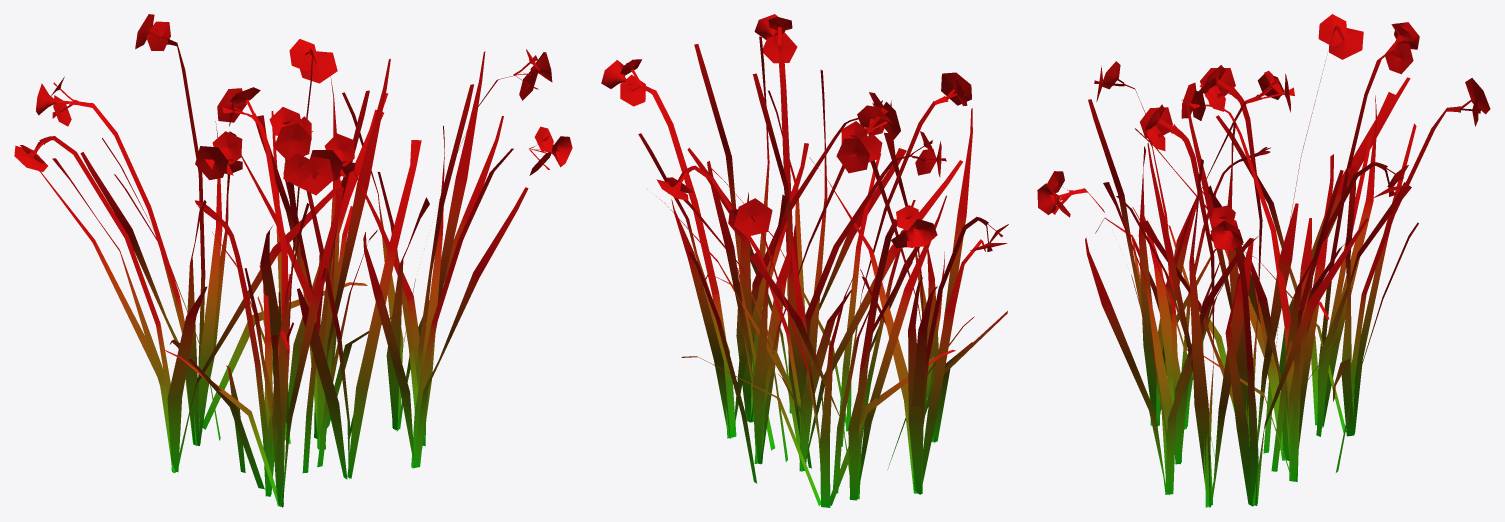
File: Rush Daffodil_LOD5_Var1_wftgfjaia.fbx
3 renders of one model, left to right at view 1: azimuth 30°, elevation 25°; view 2: azimuth 150°, elevation 25°; view 3: azimuth 270°, elevation 25°, orthographic. The views are drawn at different scales.
Parts seen in each view (by area): view 1: _10m4_var1_LOD5; view 2: _10m4_var1_LOD5; view 3: _10m4_var1_LOD5.
Boxes of the visible parts, x1,y1,x2,y2 form: _10m4_var1_LOD5: [14, 14, 572, 507]; _10m4_var1_LOD5: [601, 14, 1008, 507]; _10m4_var1_LOD5: [1037, 14, 1490, 507].
Bounding box in the file's own units: 46.27 × 35.53 × 38.59.
